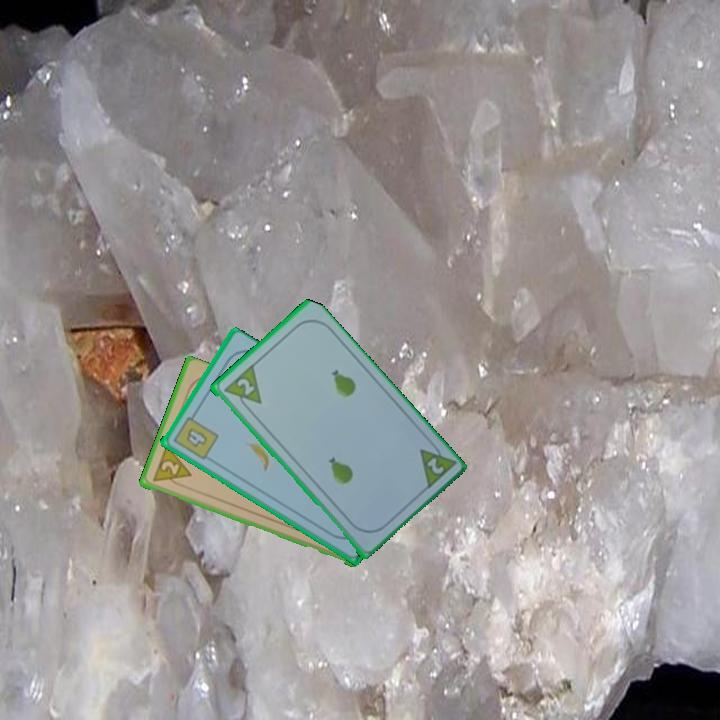2p: (415, 436, 458, 493), (148, 443, 194, 490), (233, 374, 257, 398)
4b: (169, 409, 221, 463)
